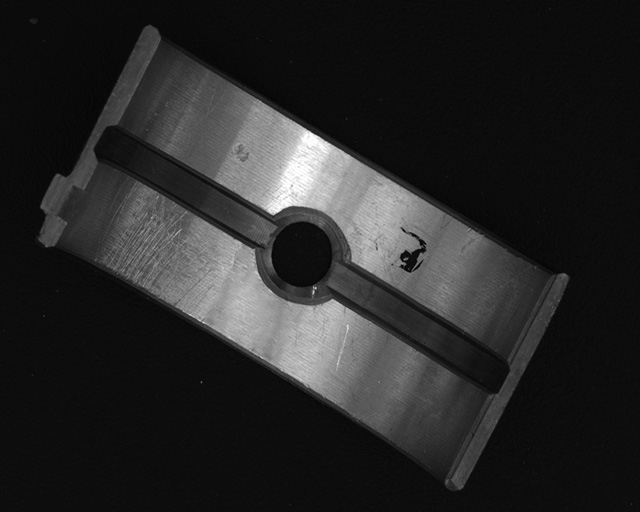blot: (397, 225, 429, 276)
bruise: (231, 141, 252, 163)
gap: (331, 267, 514, 393), (96, 127, 272, 243)
hole: (260, 209, 349, 302)
nick: (335, 324, 348, 374)
scratch: (95, 188, 225, 314)
